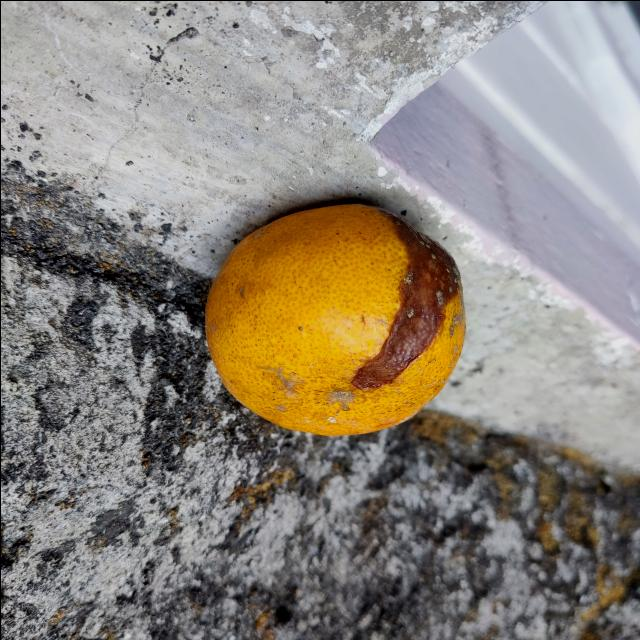orange: (204, 200, 469, 436)
